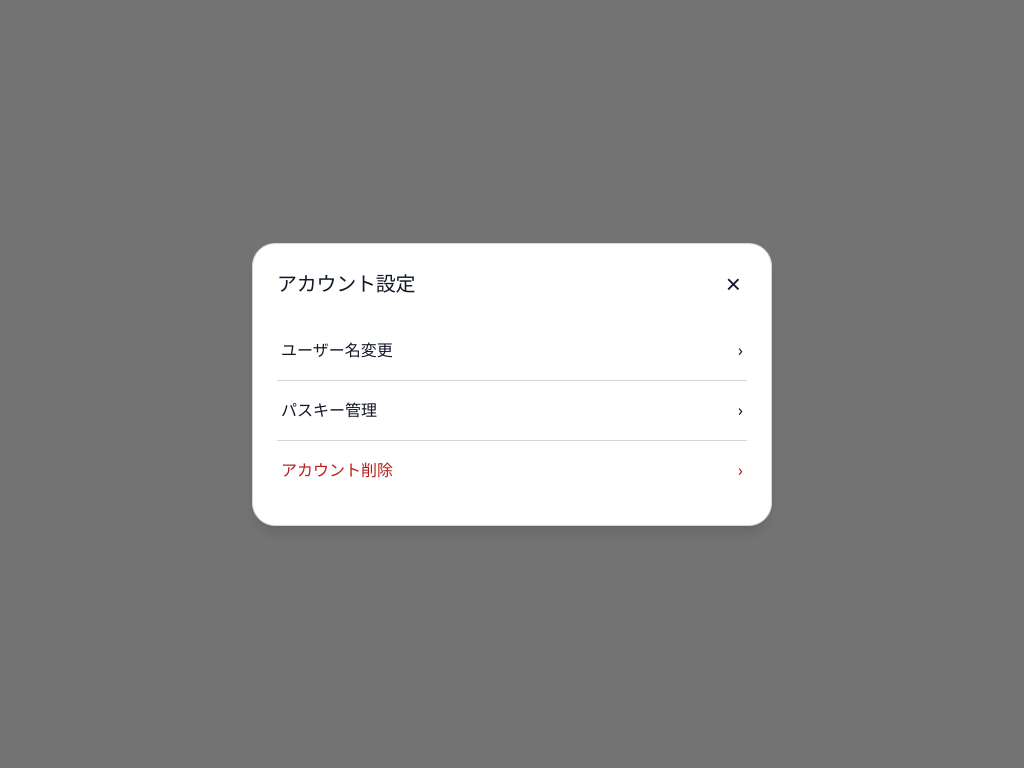
cancelled manual registration preserves the account and allows another button attempt
The image size is (1024, 768).
What coordinates should you click on to do the following:
click the button "パスキー管理 ›"
I would click on:
 (329, 410)
Its box is [277,380,747,440].
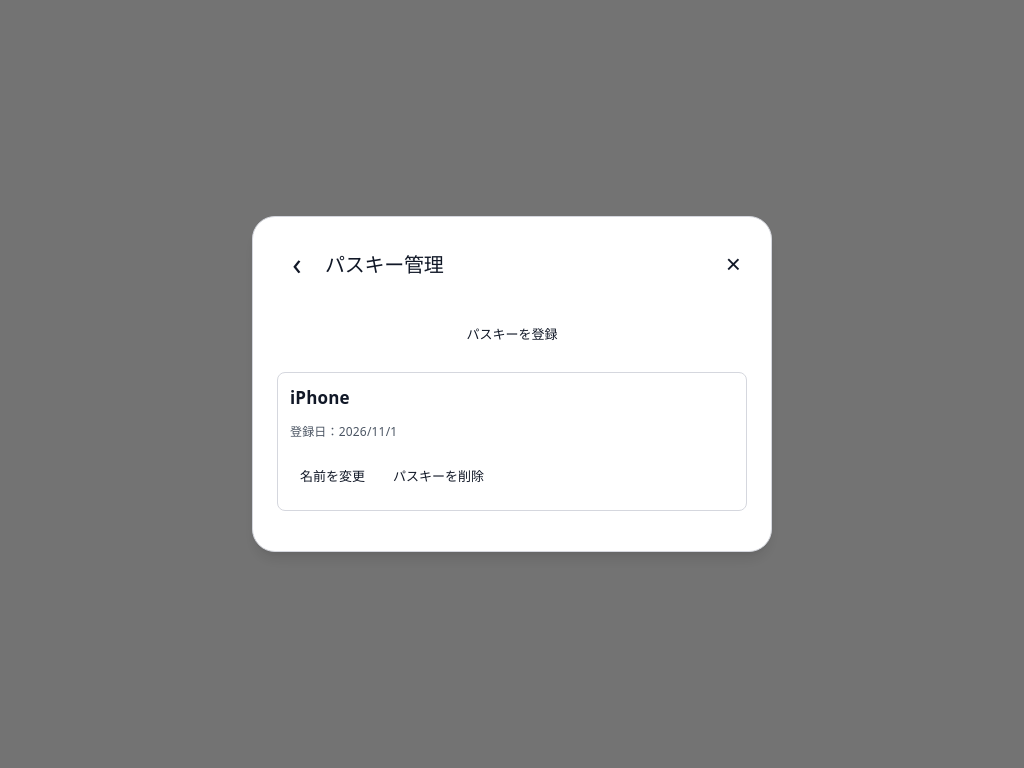
What coordinates should you click on to do the following:
click the button "パスキーを登録"
I would click on:
 (512, 334)
Its box is [277,312,747,356].
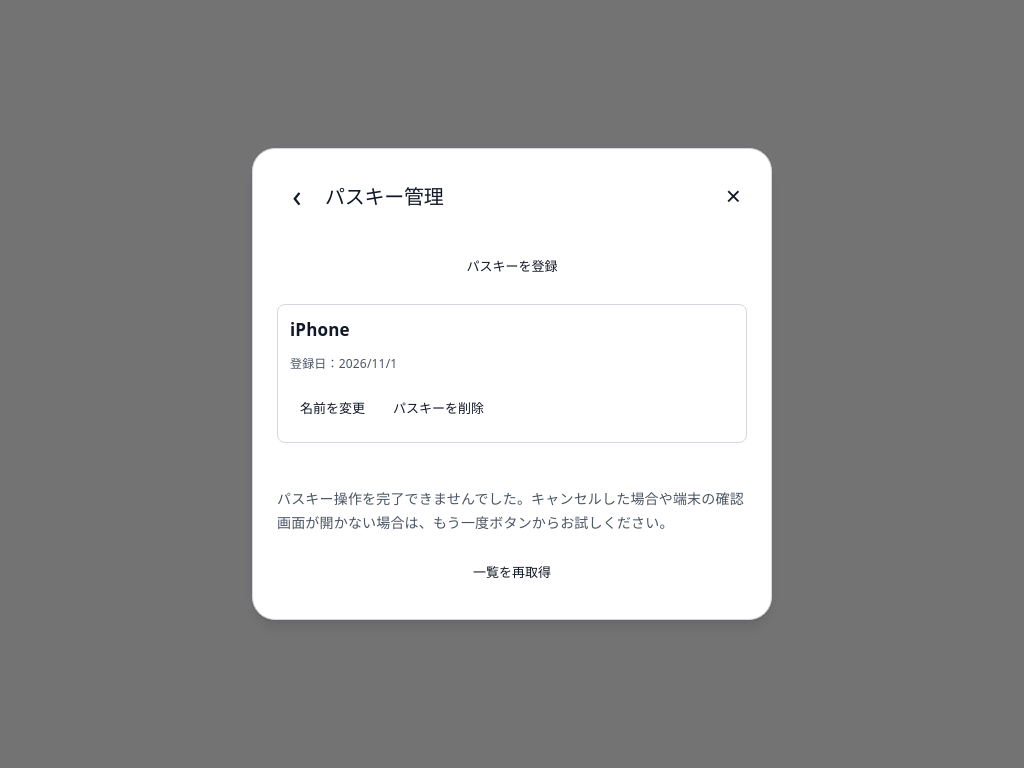
Expected: the button "パスキーを登録" is enabled, [277,244,747,288]
Expected: the message shows "キャンセル", [277,489,744,532]
